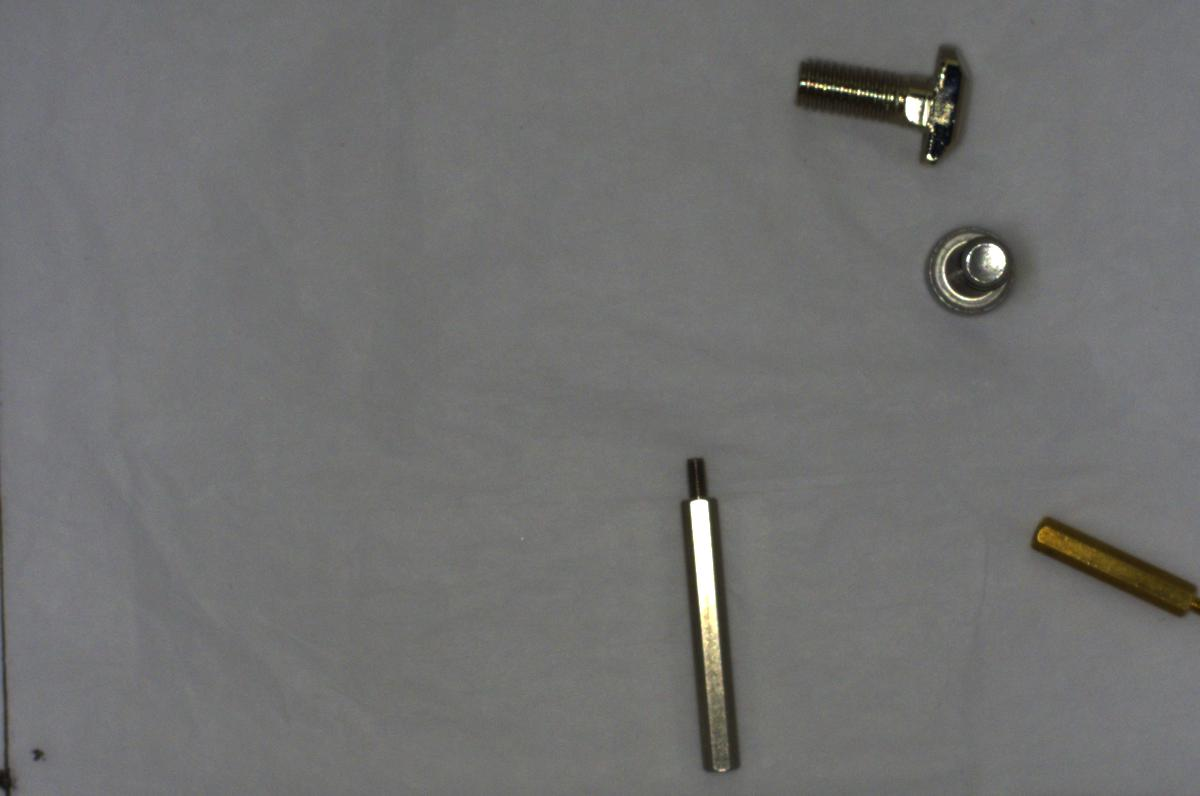Hexagon pillar: (1020, 503, 1199, 625)
Hexagon screw: (911, 221, 1024, 315)
Hexagonal steel column: (671, 443, 750, 781)
T-shaped screw: (786, 35, 974, 175)
